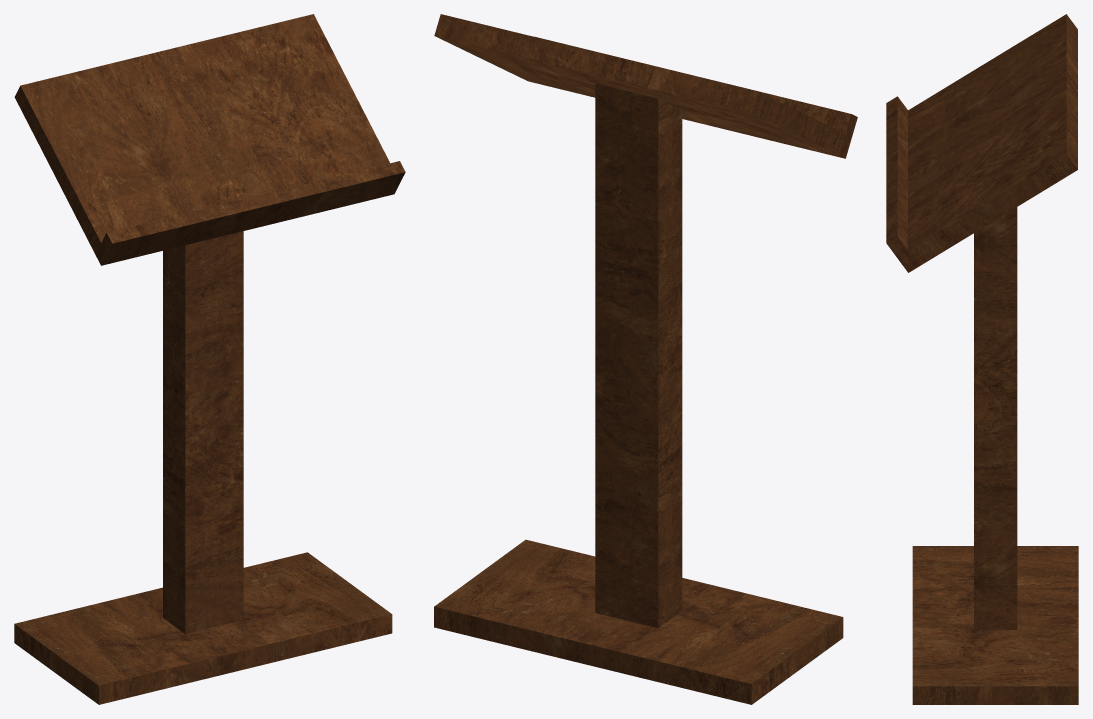
The model's file is Bookstand.fbx.
The picture shows the model from 3 angles, left to right: view 1: azimuth 30°, elevation 25°; view 2: azimuth 150°, elevation 25°; view 3: azimuth 270°, elevation 25°; orthographic projection. The views are drawn at different scales.
Visible parts, largest first — view 1: Bookstand; view 2: Bookstand; view 3: Bookstand.
Part boxes in pixels (left/top/right/bottom): Bookstand: left=14, top=14, right=405, bottom=704; Bookstand: left=434, top=14, right=857, bottom=704; Bookstand: left=886, top=14, right=1078, bottom=704.
Size of the model in its own units: 80 by 146 by 46.33.
